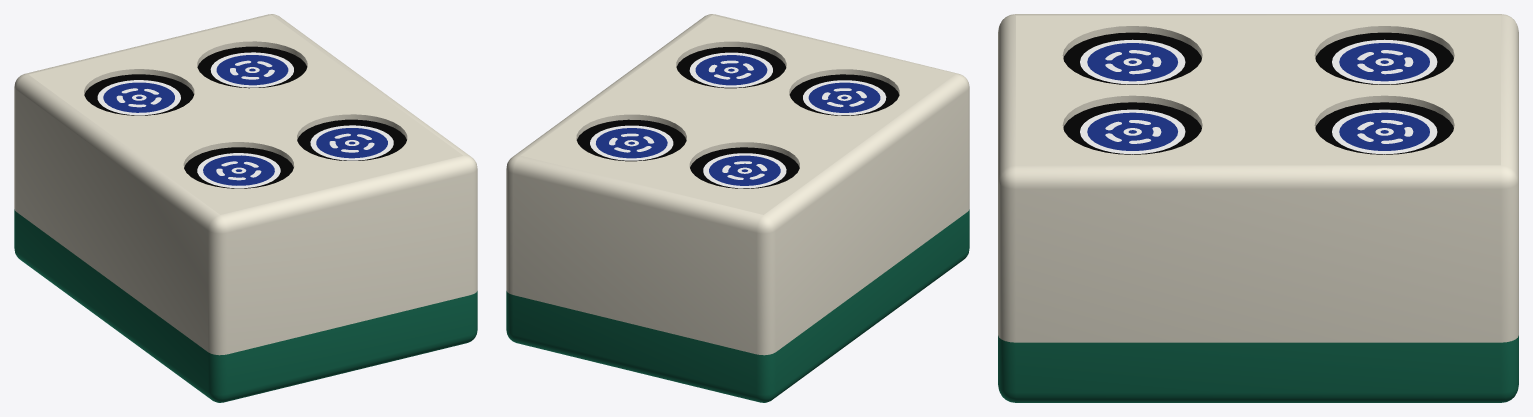
File: Pin4.glb
The picture shows the model from 3 angles, left to right: view 1: azimuth 30°, elevation 25°; view 2: azimuth 150°, elevation 25°; view 3: azimuth 270°, elevation 25°; orthographic projection. The views are drawn at different scales.
Parts seen in each view (by area): view 1: Pin4_body, Pin4_inset; view 2: Pin4_body, Pin4_inset; view 3: Pin4_body, Pin4_inset.
Boxes of the visible parts, x1,y1,x2,y2 form: Pin4_body: [14, 14, 477, 402]; Pin4_inset: [84, 46, 406, 188]; Pin4_body: [506, 14, 969, 402]; Pin4_inset: [576, 47, 899, 188]; Pin4_body: [998, 14, 1518, 402]; Pin4_inset: [1063, 32, 1453, 154].
Bounding box in the file's own units: 0.024 × 0.016 × 0.032.
